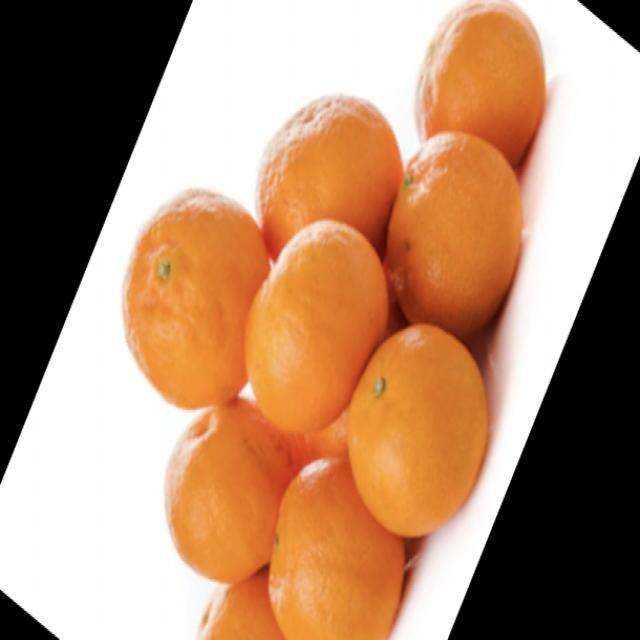fresh: (111, 0, 552, 640)
